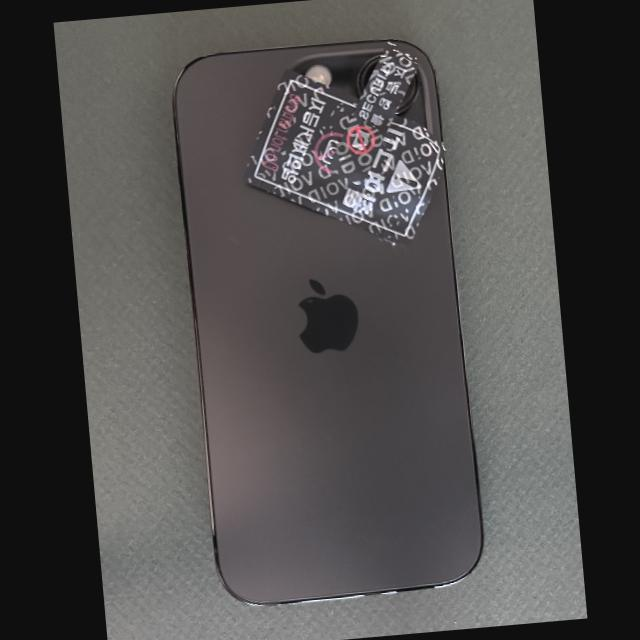lens: (357, 56, 378, 97)
phone: (173, 40, 481, 607)
sticker: (244, 69, 446, 245), (330, 40, 419, 183)
